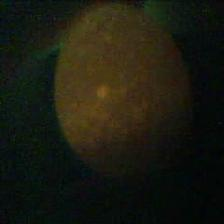fertile: (52, 2, 192, 178)
